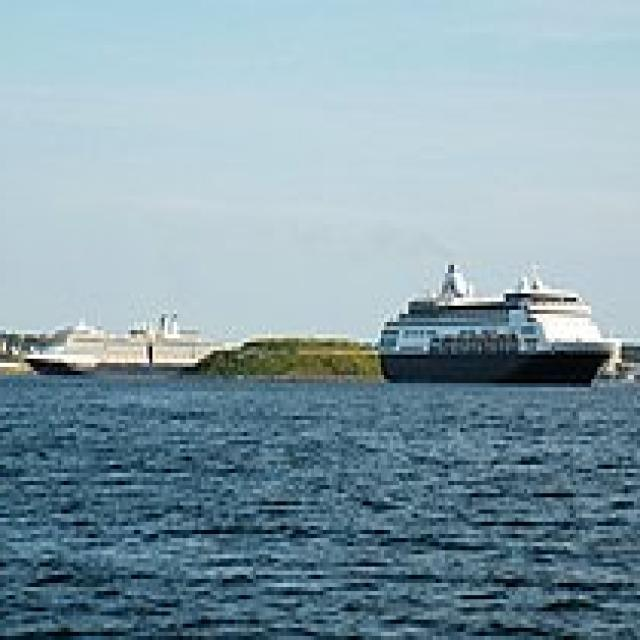Cruise: (378, 253, 625, 387)
